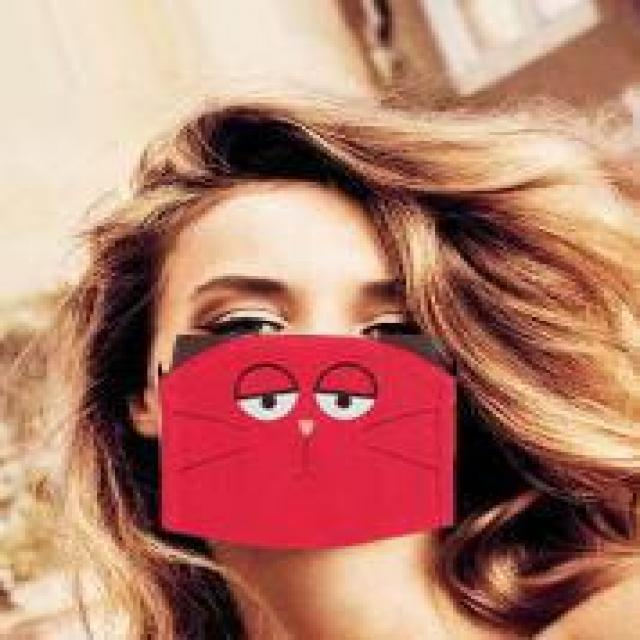mask: (100, 138, 492, 564)
